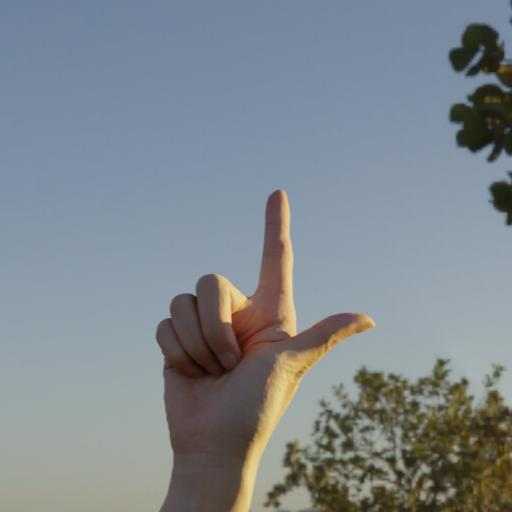L: (124, 167, 405, 483)
